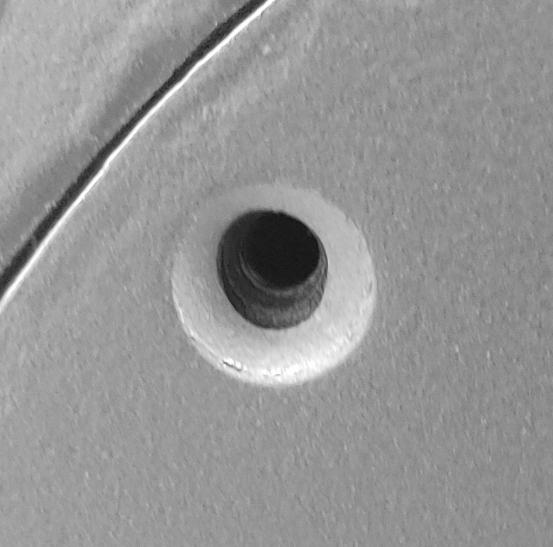missing-head: (1, 1, 553, 547)
